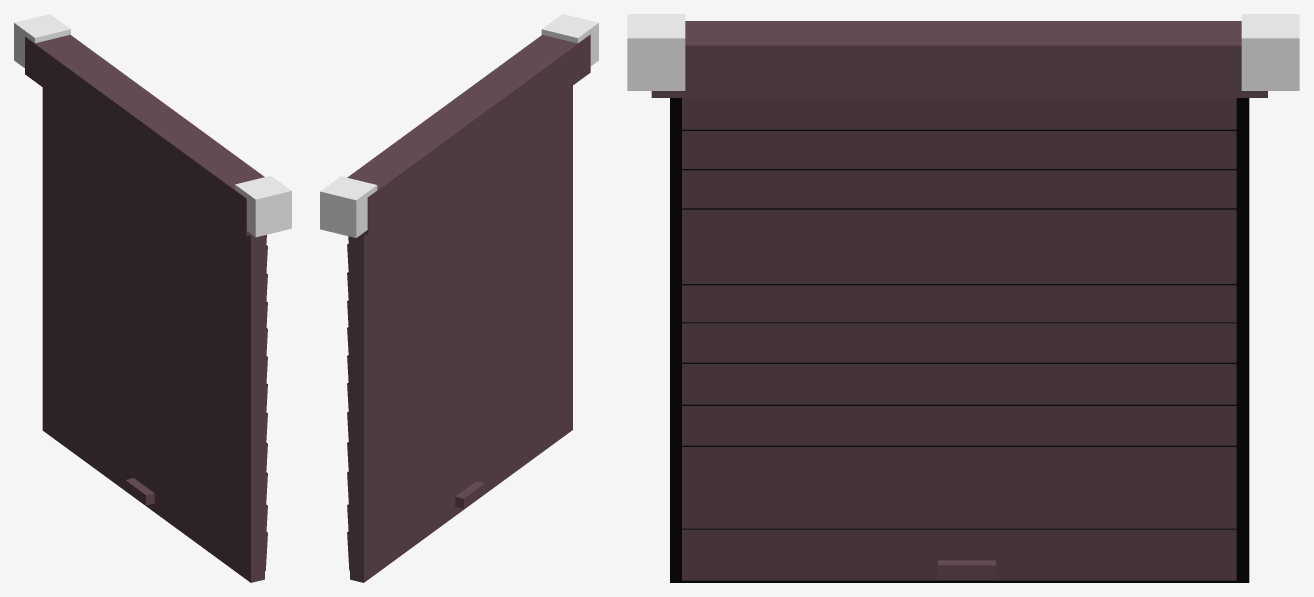
The model's file is garagedoor.fbx.
3 views of the same model, side by side, from view 1: azimuth 30°, elevation 25°; view 2: azimuth 150°, elevation 25°; view 3: azimuth 270°, elevation 25° (orthographic). The views are drawn at different scales.
Parts seen in each view (by area): view 1: Cube, Cube.001; view 2: Cube, Cube.001; view 3: Cube, Cube.001.
Boxes of the visible parts, x1,y1,x2,y2 form: Cube: [25, 34, 267, 582]; Cube.001: [14, 14, 291, 237]; Cube: [347, 34, 590, 582]; Cube.001: [320, 14, 598, 237]; Cube: [651, 21, 1267, 582]; Cube.001: [627, 14, 1299, 90].
Bounding box in the file's own units: 107 × 1052 × 1161.
